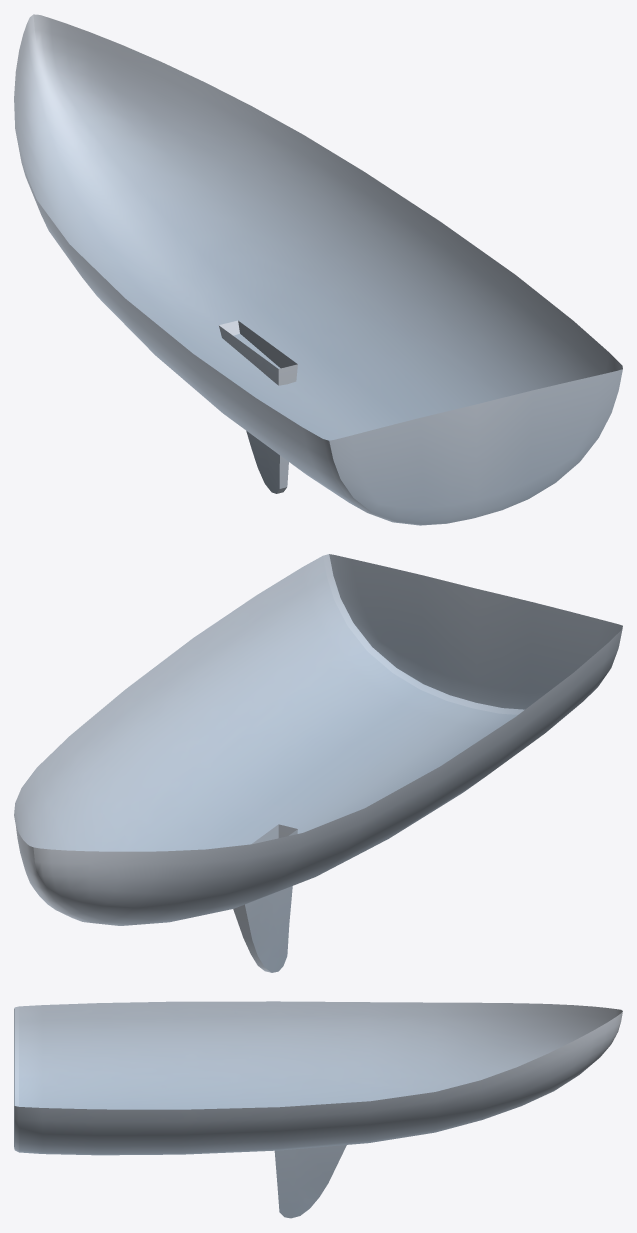
File: SailBoat_Bothom.fbx
The picture shows the model from 3 angles, top to bottom: view 1: azimuth 30°, elevation 25°; view 2: azimuth 150°, elevation 25°; view 3: azimuth 270°, elevation 25°; orthographic projection. The views are drawn at different scales.
Parts seen in each view (by area): view 1: SailBoat_Bothom; view 2: SailBoat_Bothom; view 3: SailBoat_Bothom.
Boxes of the visible parts, <box> form: SailBoat_Bothom: <box>14,14,622,525</box>; SailBoat_Bothom: <box>14,554,622,972</box>; SailBoat_Bothom: <box>14,1001,622,1218</box>.
Size of the model in its own units: 222 by 197 by 528.
